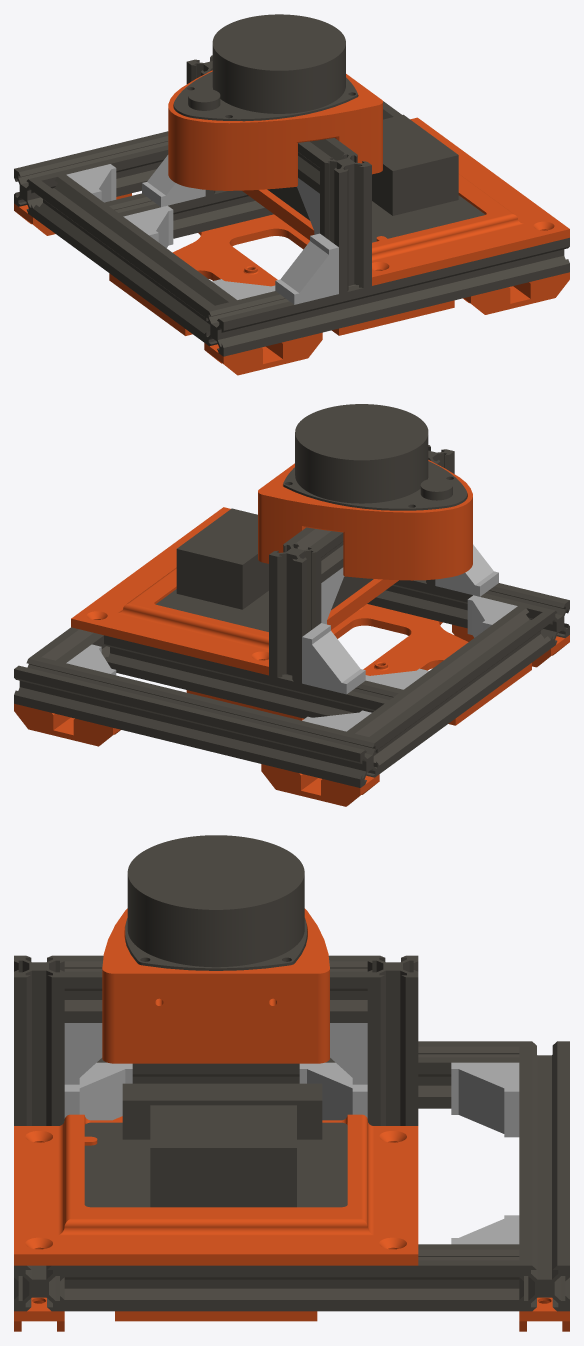
The model's file is xavbot_chassis_2.1.0.dae.
The picture shows the model from 3 angles, top to bottom: view 1: azimuth 30°, elevation 25°; view 2: azimuth 150°, elevation 25°; view 3: azimuth 270°, elevation 25°; orthographic projection. The views are drawn at different scales.
Visible parts, largest first — view 1: V-Slot 2020 Extrude - Configurable (×7), Part 2, Part 1, jetson_top, jetson_block, 2020_45deg (×6), base_panel, motor_mount (×2), jetson_base; view 2: V-Slot 2020 Extrude - Configurable (×8), Part 2, Part 1, jetson_top, jetson_block, 2020_45deg (×7), base_panel, motor_mount (×3), jetson_base; view 3: V-Slot 2020 Extrude - Configurable (×7), jetson_top, jetson_block, Part 1, Part 2, 2020_45deg (×6), base_panel, motor_mount (×2), jetson_base.
Part boxes in pixels (x1,y1,x2,y2): V-Slot 2020 Extrude - Configurable (×7): (14, 55, 569, 356); Part 2: (173, 14, 357, 121); Part 1: (168, 70, 382, 190); jetson_top: (246, 117, 569, 285); jetson_block: (267, 114, 485, 242); 2020_45deg (×6): (66, 155, 338, 304); base_panel: (109, 214, 454, 335); motor_mount (×2): (204, 272, 569, 375); jetson_base: (242, 190, 520, 273); V-Slot 2020 Extrude - Configurable (×8): (14, 445, 569, 787); Part 2: (283, 404, 467, 510); Part 1: (258, 460, 472, 580); jetson_top: (71, 507, 394, 675); jetson_block: (155, 508, 373, 631); 2020_45deg (×7): (66, 544, 517, 731); base_panel: (186, 604, 531, 725); motor_mount (×3): (14, 624, 569, 806); jetson_base: (120, 580, 398, 663); V-Slot 2020 Extrude - Configurable (×7): (14, 955, 569, 1311); jetson_top: (14, 1114, 418, 1265); jetson_block: (84, 1083, 347, 1207); Part 1: (102, 908, 329, 1063); Part 2: (125, 835, 307, 970); 2020_45deg (×6): (64, 1023, 519, 1244); base_panel: (113, 1116, 317, 1321); motor_mount (×2): (14, 1297, 569, 1331); jetson_base: (64, 1261, 367, 1265).
Bounding box in the file's own units: 0.21 × 0.22 × 0.1439.
